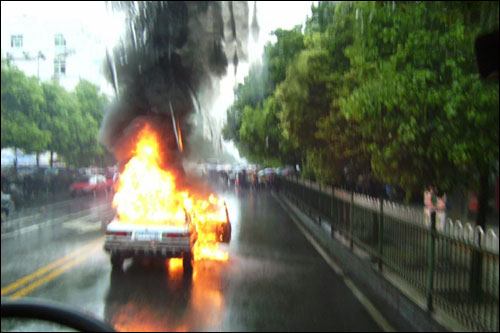fire: (109, 119, 224, 235)
